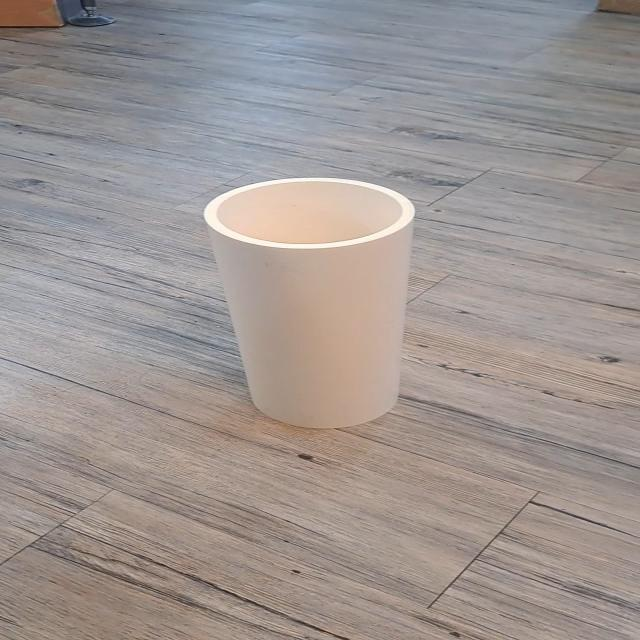CORAL: (148, 155, 490, 448)
